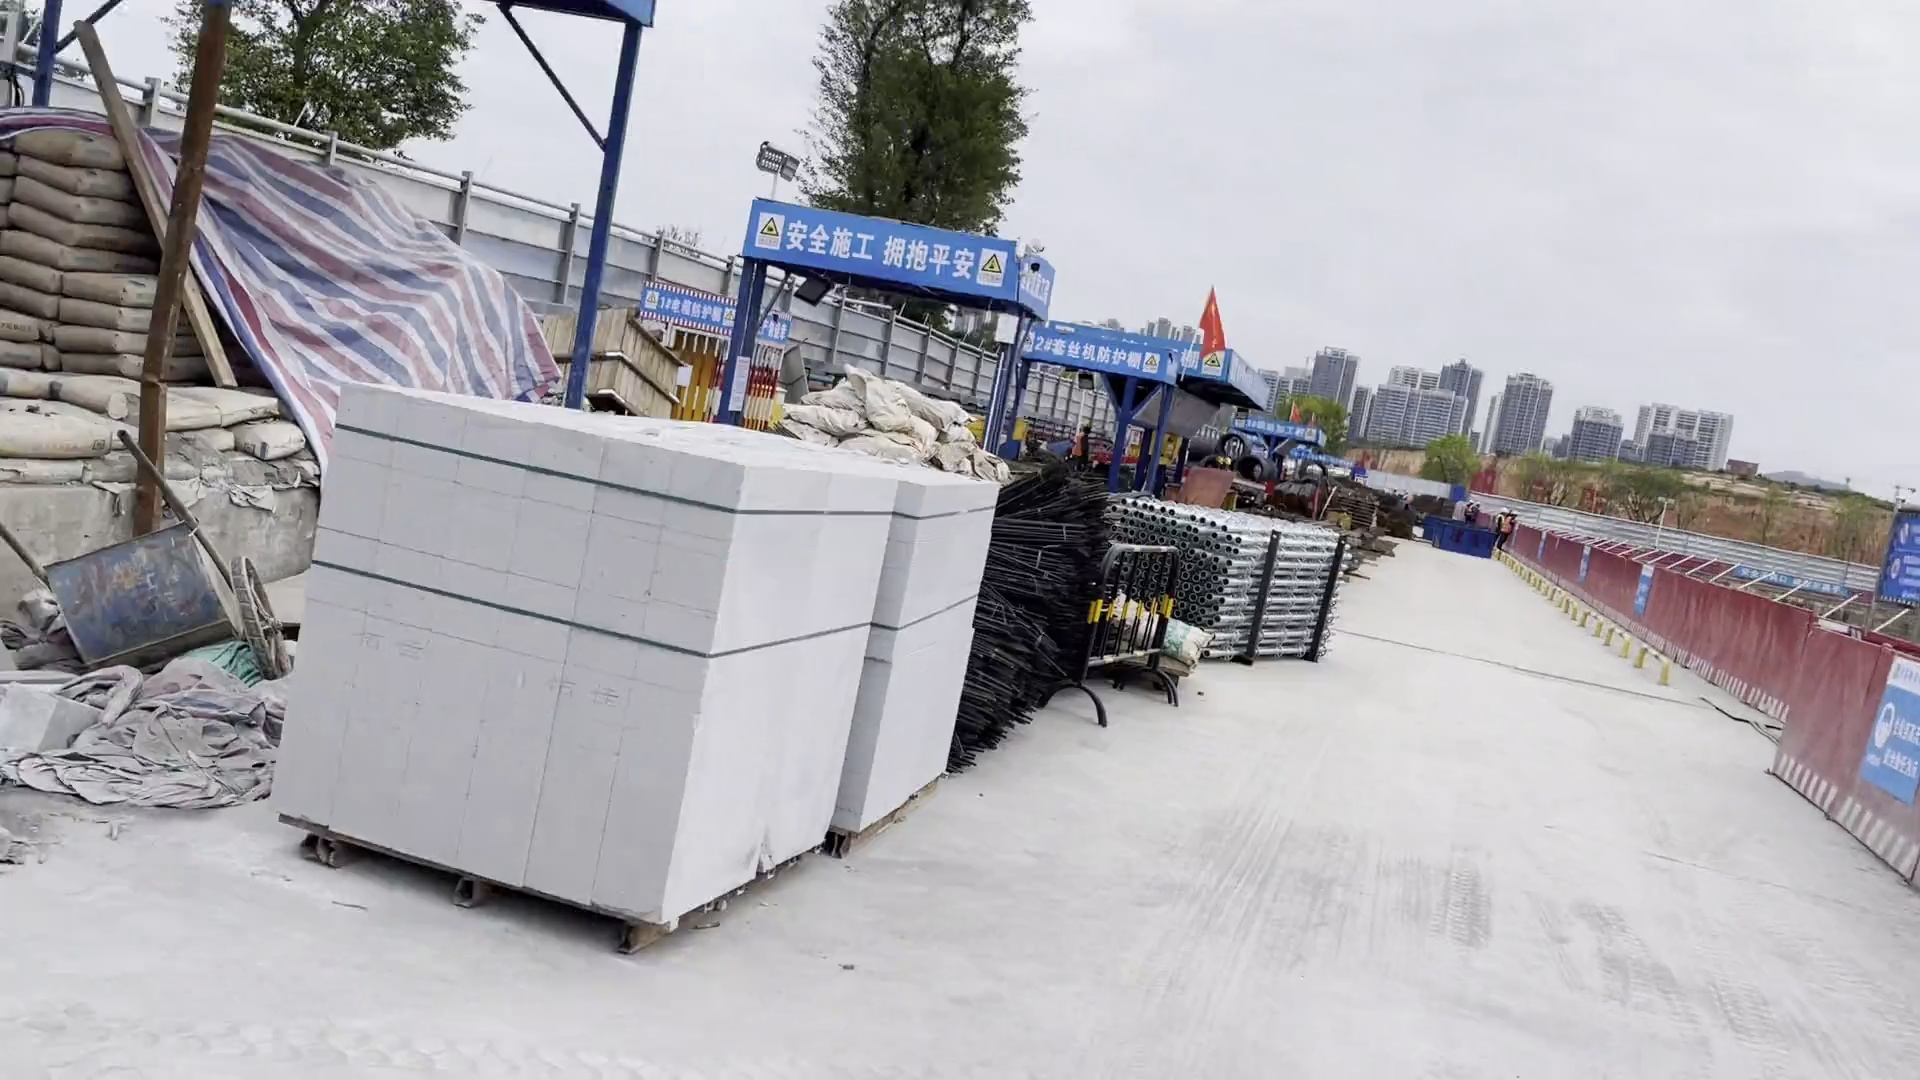brick: (258, 372, 1011, 975)
hopper: (1429, 516, 1501, 558)
scaffold: (1089, 497, 1353, 667)
slogan: (783, 211, 977, 291)
